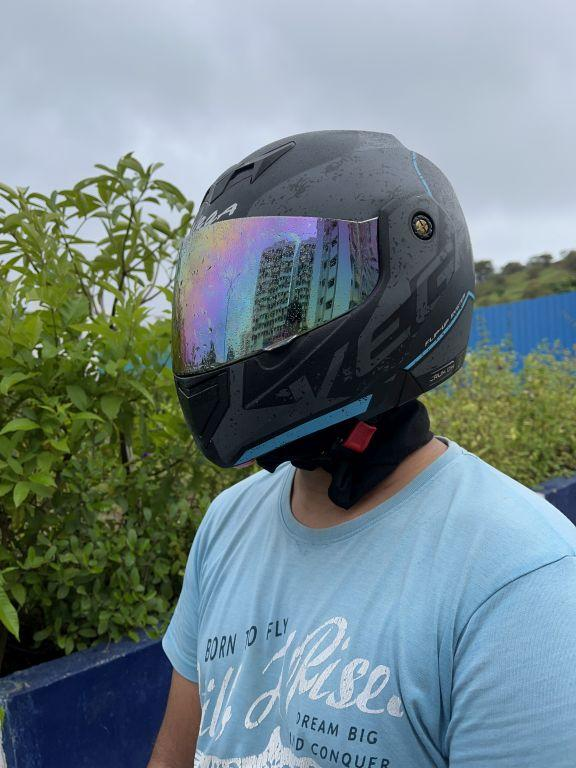helmet: (165, 114, 482, 483)
